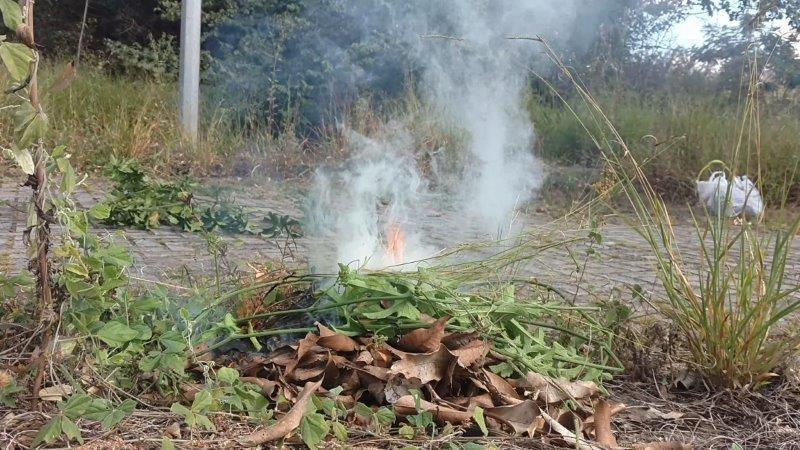smoke: (324, 167, 413, 261), (474, 111, 529, 233)
